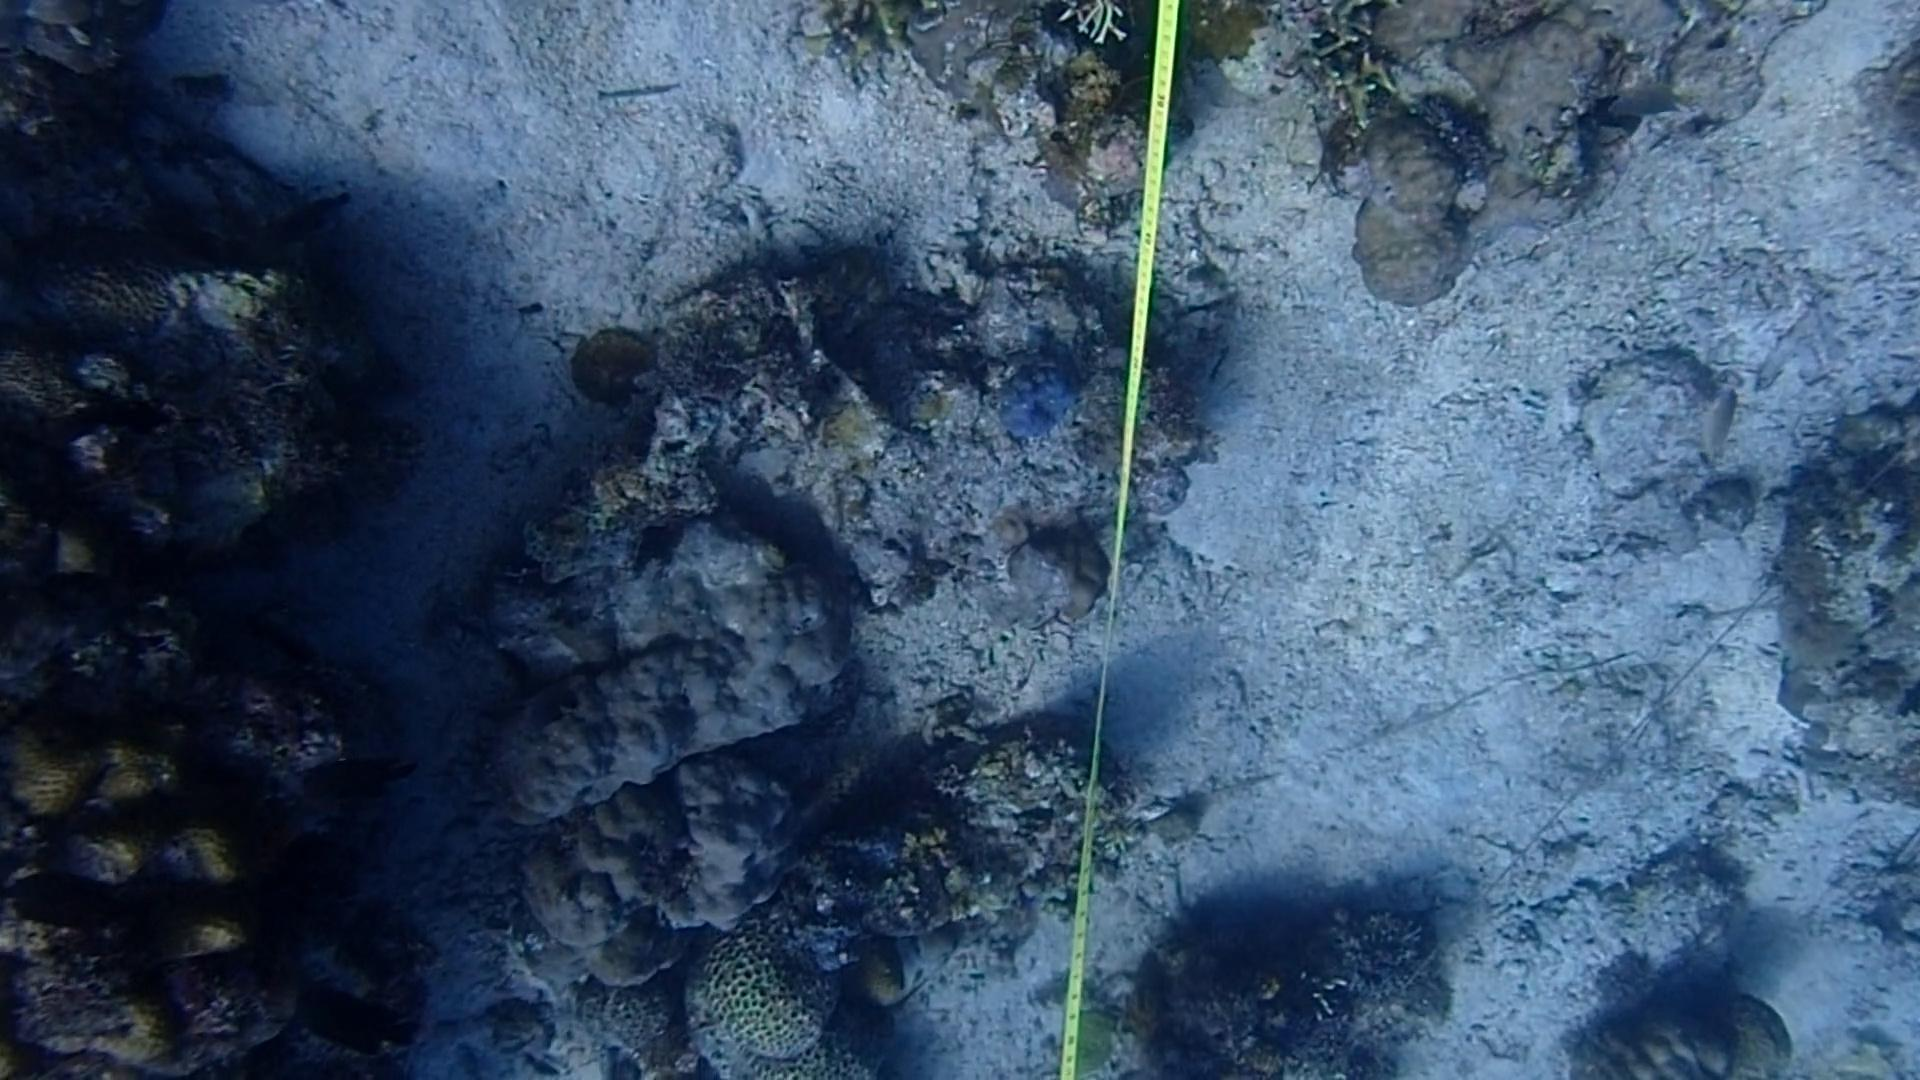Dark Fish: (284, 975, 414, 1067), (8, 858, 149, 938), (45, 373, 179, 455), (298, 741, 436, 818), (496, 657, 600, 752), (261, 175, 368, 262)
Light Fish: (1696, 384, 1739, 462)
